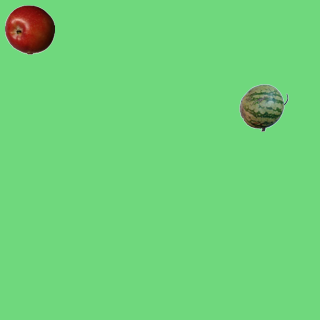Apple Braeburn: (4, 4, 54, 54)
Watermelon: (238, 82, 288, 132)
